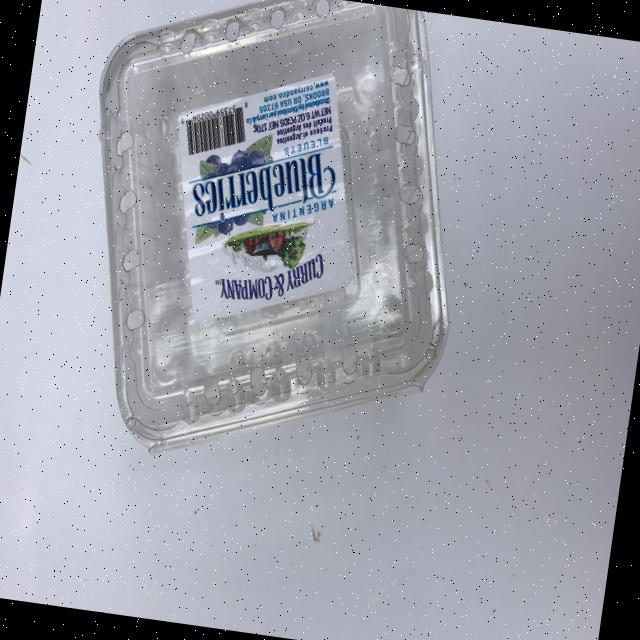plastic: (49, 0, 492, 493)
